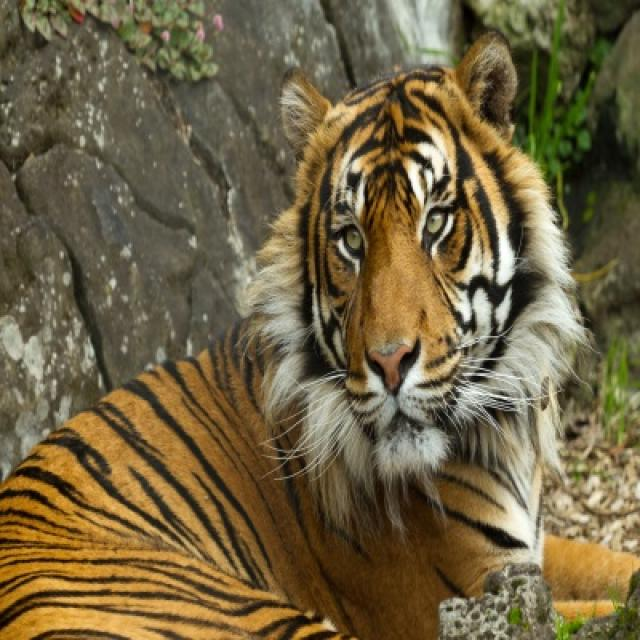Tiger: (0, 34, 589, 638)
